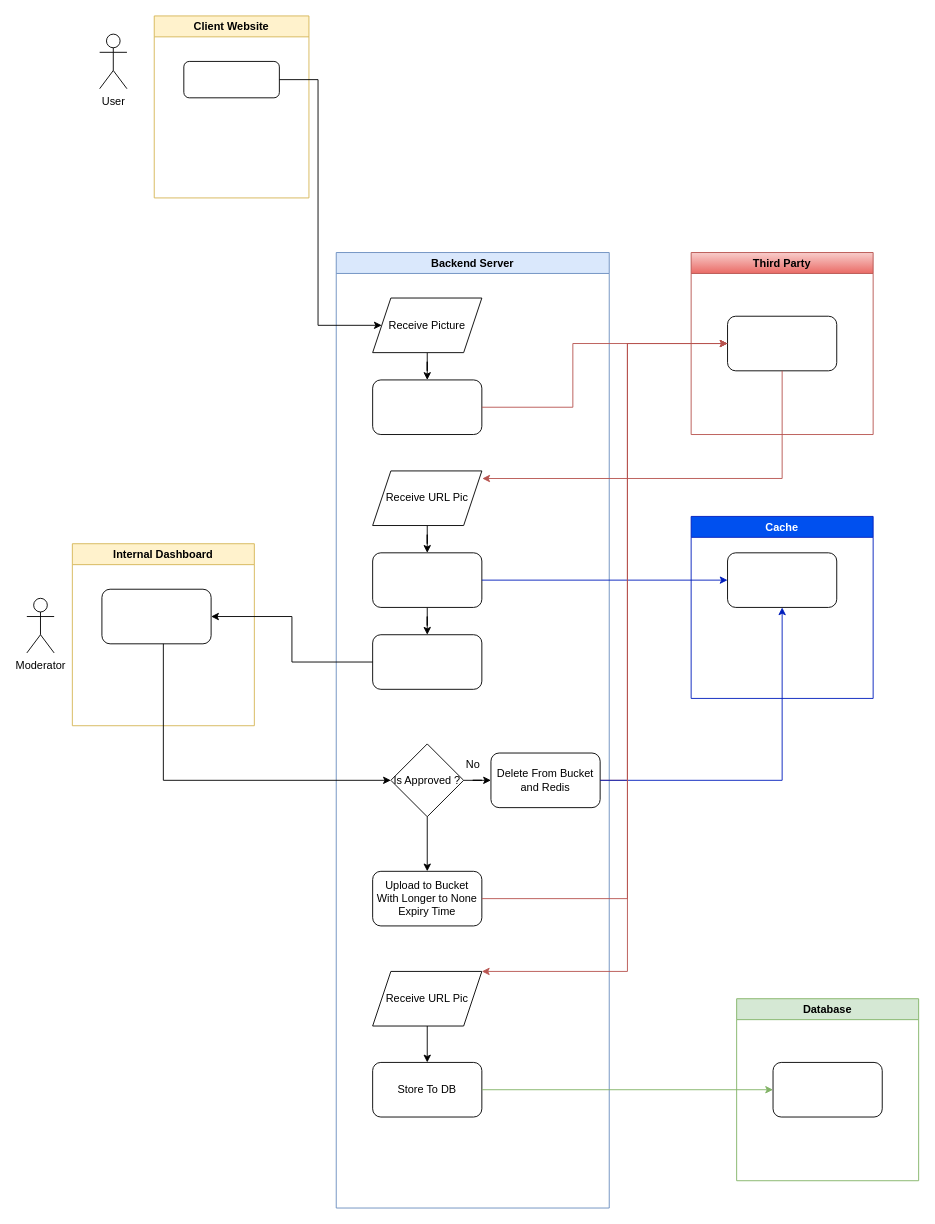
This 935x1224 diagram has some shape labels left out. The shapes that lost their labels are listed below. From the top down, each one's centre as x and y in pixels, then its label:
point 231,79: Upload Picture
point 782,343: Bucket
point 427,407: Send to Bucket With Expire Time
point 427,579: Send URL to Redis With Expiry Time
point 782,579: Redis
point 156,616: Show Pic
point 427,661: Send To Internal Dashboard
point 827,1089: DB
